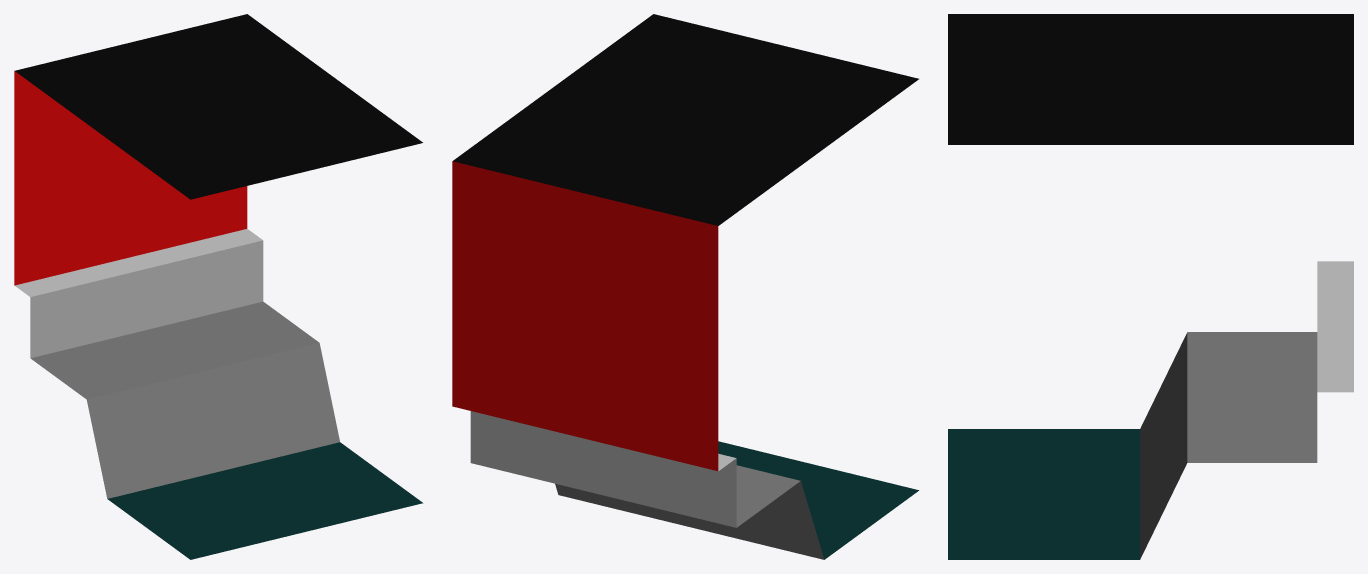
The model's file is recta_elevada.fbx.
3 views of the same model, side by side, from view 1: azimuth 30°, elevation 25°; view 2: azimuth 150°, elevation 25°; view 3: azimuth 270°, elevation 25° (orthographic). The views are drawn at different scales.
Parts seen in each view (by area): view 1: Pieza_Recta_Elevada; view 2: Pieza_Recta_Elevada; view 3: Pieza_Recta_Elevada.
Part boxes in pixels (box(x1,y1,x2,y2)): Pieza_Recta_Elevada: box(14, 14, 423, 559); Pieza_Recta_Elevada: box(452, 14, 918, 559); Pieza_Recta_Elevada: box(948, 14, 1353, 559).
Size of the model in its own units: 20 by 29.56 by 26.19.
